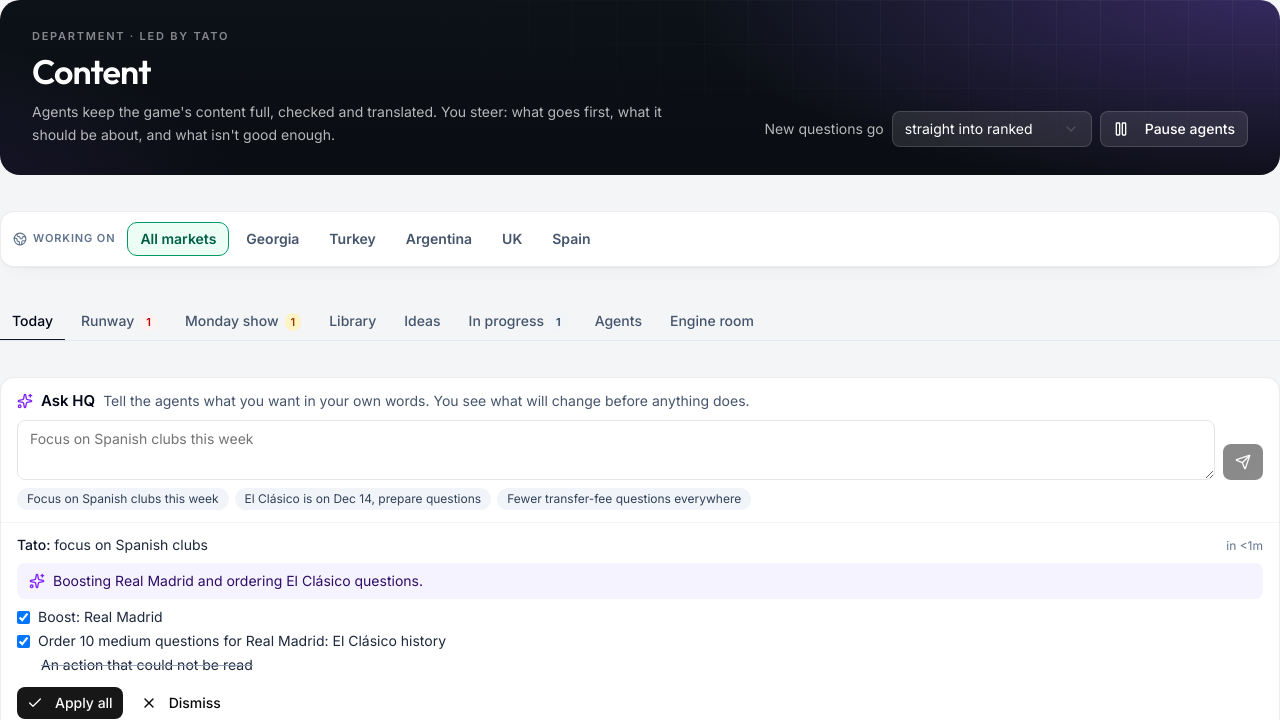
Scenario: closes the approval question when the pack changes underneath it
Click the tab "Monday show1" at (243, 322), box x1=173 y1=302 x2=313 y2=340
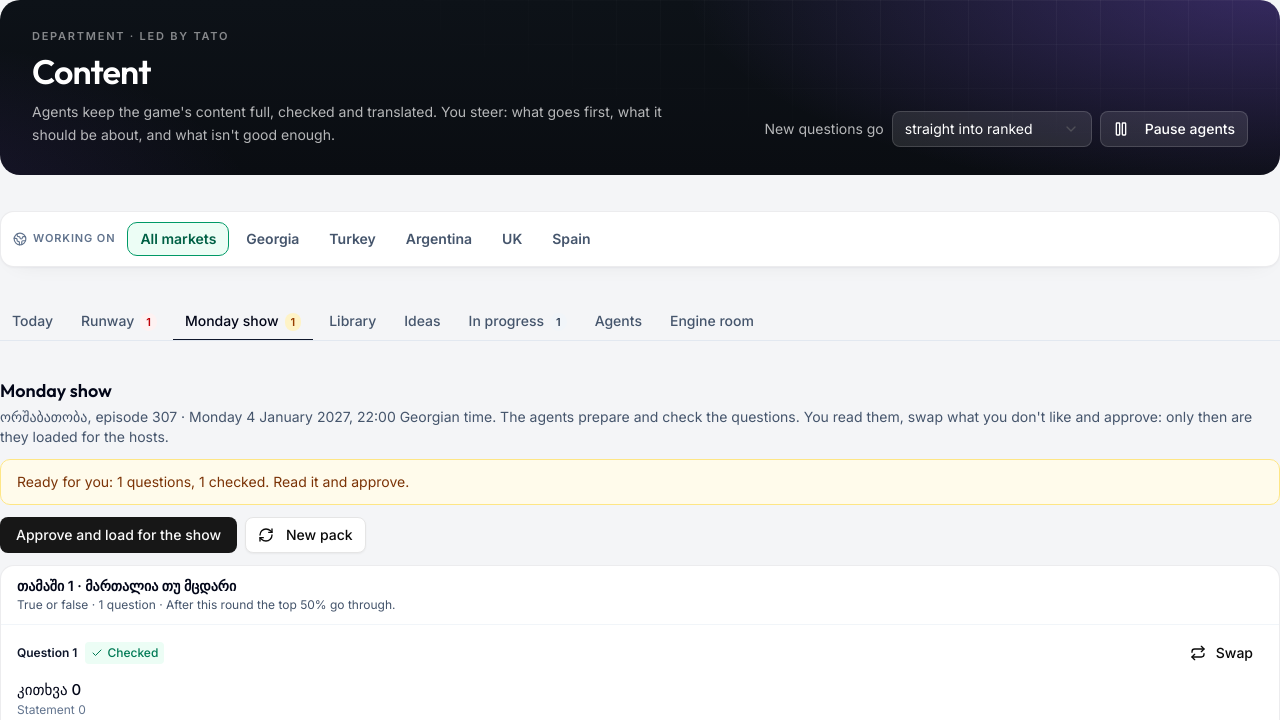
Click the button "Approve and load for the show" at (118, 534), box x1=0 y1=516 x2=237 y2=552
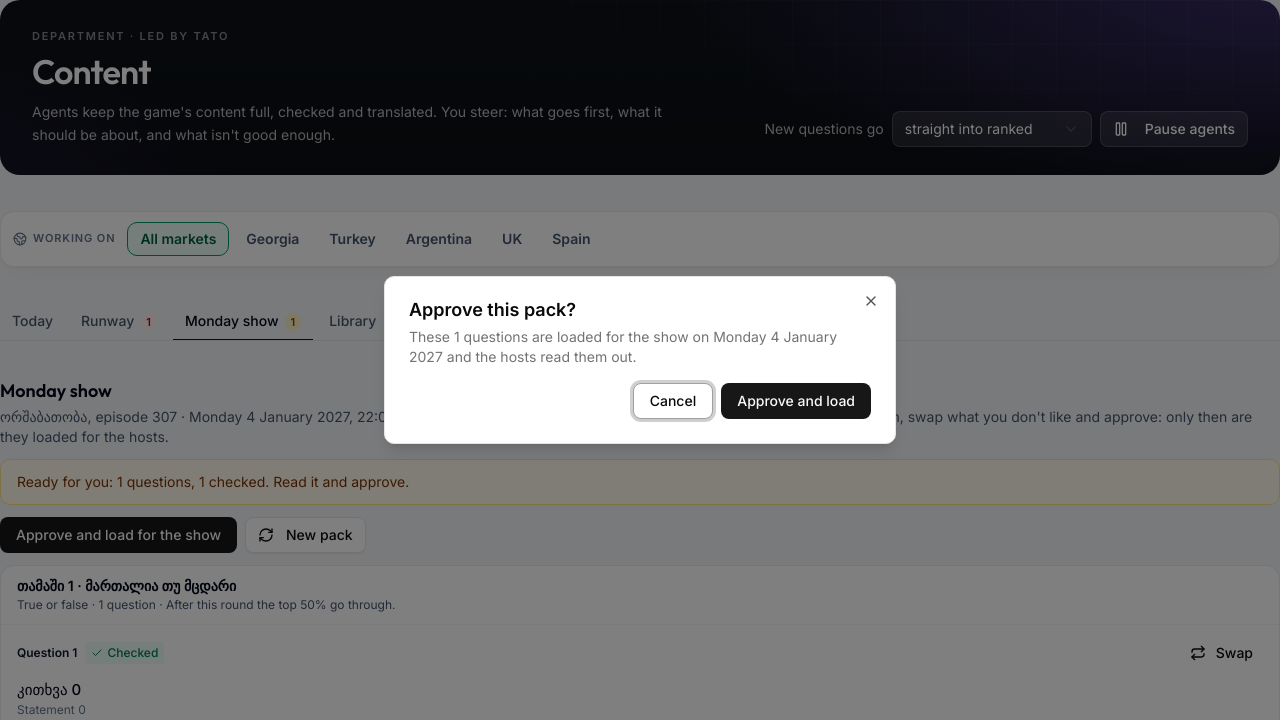
Now the button "Approve and load" is shown, box x1=721 y1=383 x2=871 y2=419
